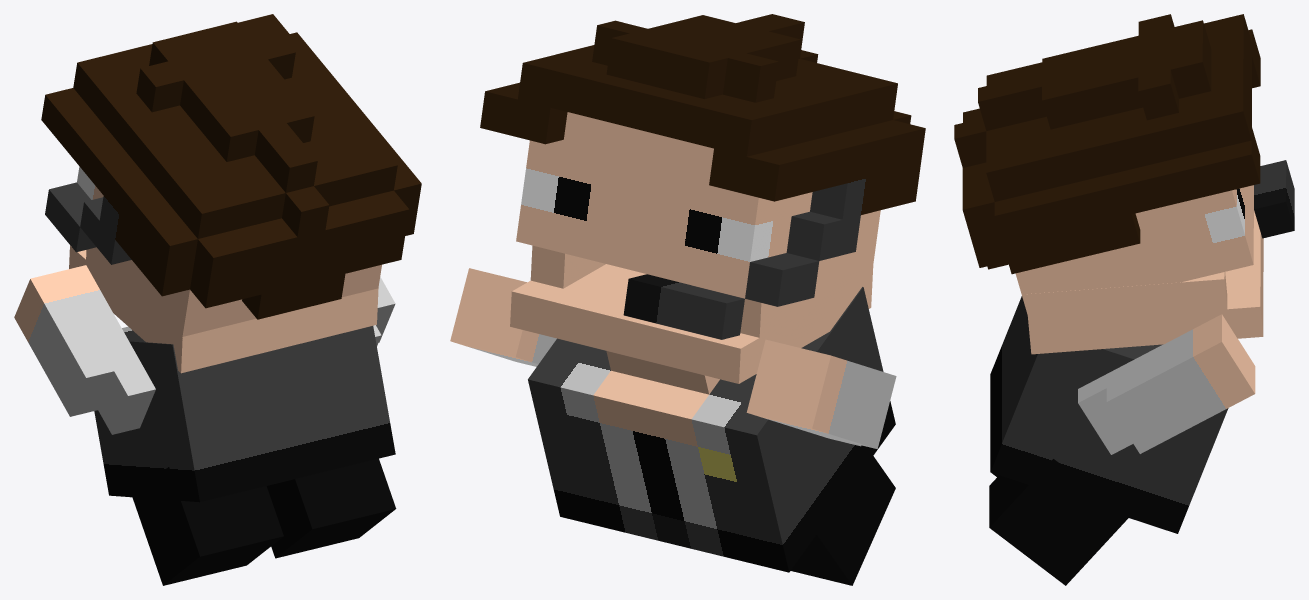
The model's file is Jump.dae.
3 renders of one model, left to right at view 1: azimuth 30°, elevation 25°; view 2: azimuth 150°, elevation 25°; view 3: azimuth 270°, elevation 25°, orthographic. The views are drawn at different scales.
Parts seen in each view (by area): view 1: Hair-local, Center-local, L_Hand-local, Mouth-local, L_Leg-local, R_Leg-local, Head-local, R_Hand-local; view 2: Hair-local, Center-local, Head-local, Mouth-local, L_Hand-local, L_Leg-local, R_Hand-local; view 3: Hair-local, Center-local, Mouth-local, R_Hand-local, Head-local, R_Leg-local.
Boxes of the visible parts, box(x1,y1,x2,y2) form: Hair-local: box(41, 14, 421, 319); Center-local: box(94, 326, 395, 502); L_Hand-local: box(14, 265, 155, 434); Mouth-local: box(69, 245, 378, 373); L_Leg-local: box(132, 467, 283, 585); R_Leg-local: box(266, 458, 396, 558); Head-local: box(77, 166, 381, 339); R_Hand-local: box(373, 277, 395, 345); Hair-local: box(480, 14, 925, 339); Center-local: box(528, 287, 895, 572); Head-local: box(516, 112, 880, 298); Mouth-local: box(510, 245, 873, 383); L_Hand-local: box(746, 339, 896, 449); L_Leg-local: box(791, 445, 895, 585); R_Hand-local: box(450, 268, 556, 366); Hair-local: box(954, 14, 1294, 274); Center-local: box(990, 296, 1228, 533); Mouth-local: box(1025, 210, 1263, 354); R_Hand-local: box(1078, 314, 1255, 454); Head-local: box(1015, 185, 1253, 314); R_Leg-local: box(989, 459, 1128, 585).
Size of the model in its own units: 11.06 by 16.48 by 10.24.
